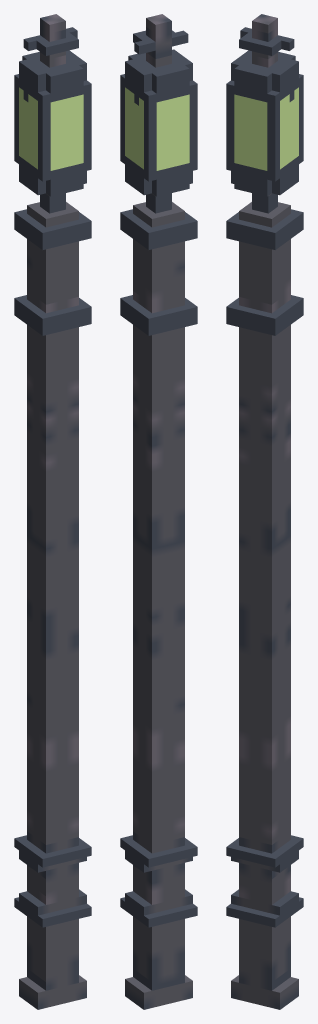
File: LightPole-1.fbx
3 renders of one model, left to right at view 1: azimuth 30°, elevation 25°; view 2: azimuth 210°, elevation 25°; view 3: azimuth 330°, elevation 25°, orthographic.
Parts seen in each view (by area): view 1: LightPole-1; view 2: LightPole-1; view 3: LightPole-1.
Boxes of the visible parts, x1=… form: LightPole-1: x1=14, y1=14, x2=91, y2=1009; LightPole-1: x1=120, y1=14, x2=197, y2=1009; LightPole-1: x1=226, y1=14, x2=303, y2=1009.
Bounding box in the file's own units: 30 × 570 × 30.
